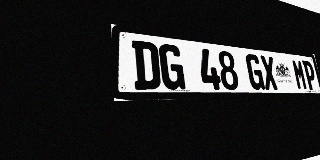4: (198, 48, 222, 90)
8: (217, 50, 239, 90)
D: (132, 40, 161, 90)
G: (158, 43, 186, 90), (245, 53, 265, 90)
M: (291, 59, 308, 90)
P: (302, 60, 318, 90)
X: (260, 55, 279, 90)
